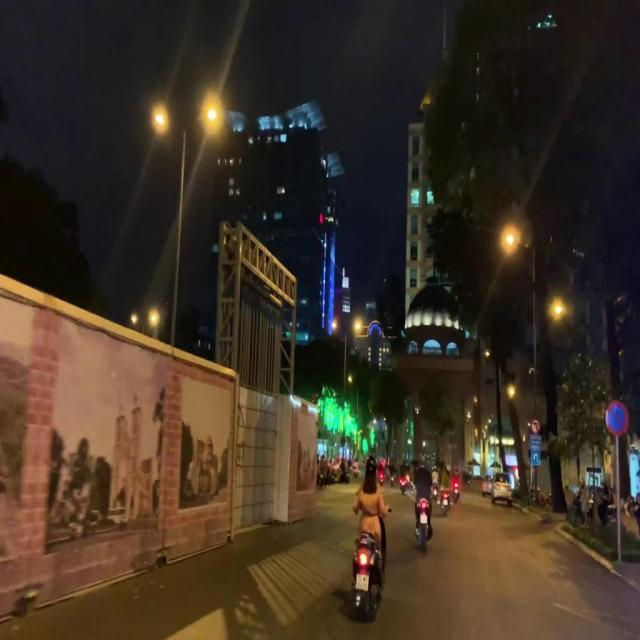cam_do_xe: (605, 398, 630, 438)
cam_re_trai: (530, 416, 542, 434)
cho_quay_xe: (531, 451, 542, 466)
khac: (530, 433, 542, 452)
